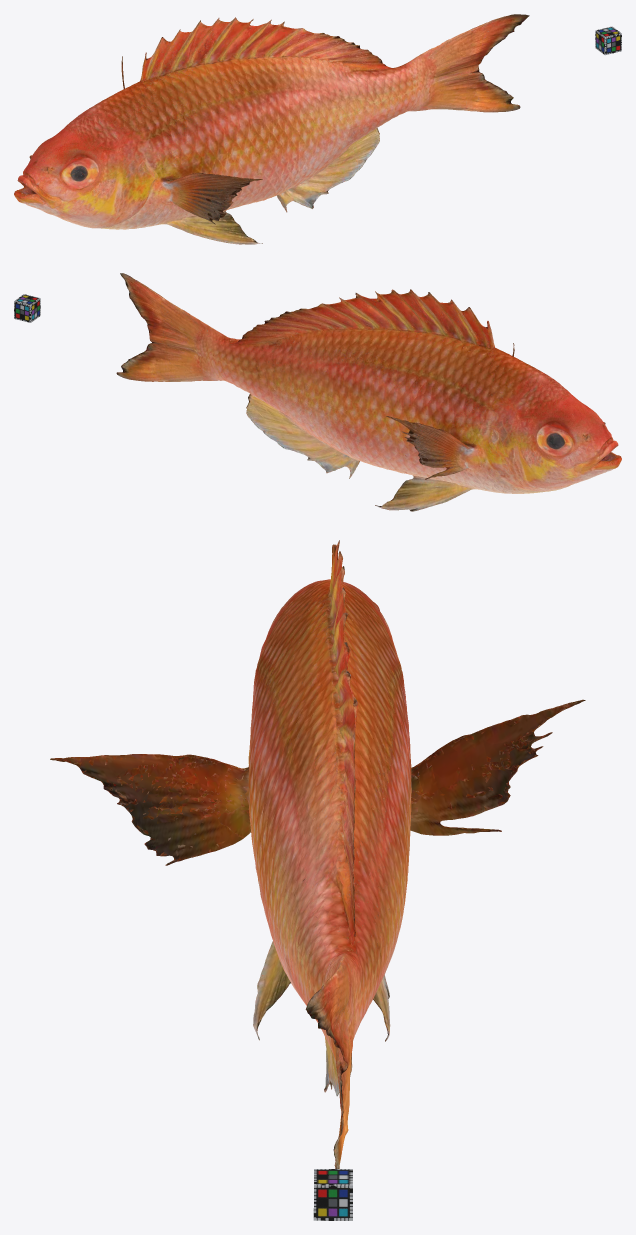
The model's file is scan_monocle_rosy.glb.
The picture shows the model from 3 angles, top to bottom: view 1: azimuth 30°, elevation 25°; view 2: azimuth 150°, elevation 25°; view 3: azimuth 270°, elevation 25°; orthographic projection. The views are drawn at different scales.
Visible parts, largest first — view 1: Object_6, Object_4; view 2: Object_6, Object_4; view 3: Object_6, Object_4.
Part boxes in pixels (bbox=[...]): Object_6: bbox=[14, 14, 529, 244]; Object_4: bbox=[595, 26, 621, 55]; Object_6: bbox=[116, 273, 621, 511]; Object_4: bbox=[14, 294, 40, 322]; Object_6: bbox=[50, 540, 585, 1168]; Object_4: bbox=[313, 1169, 352, 1220].
Size of the model in its own units: 0.3445 by 0.119 by 0.1331.
Materials: 2 (2 with a texture image).
